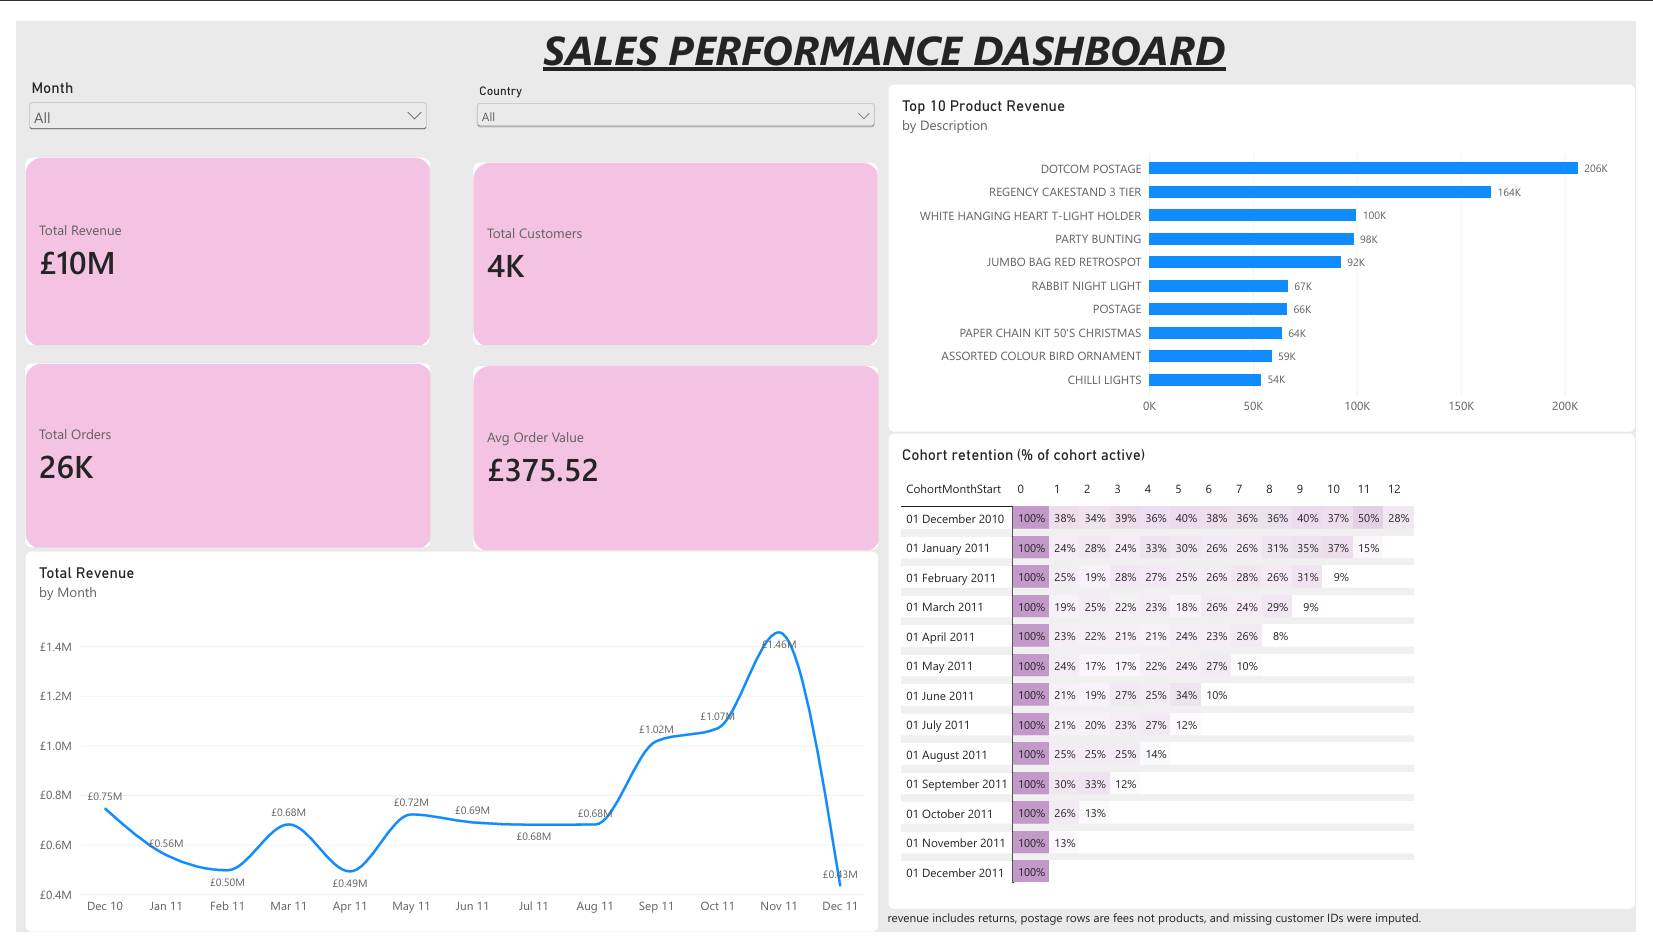

The dashboard page shown, as its layout file describes it:
{"tool":"powerbi","page":{"name":"Page 1","canvas":[1920,1080],"ordinal":0},"visuals":[{"type":"slicer","fields":{"Values":["Date.Month"]},"box":[10.3,67.9,481.6,279.9],"z":0},{"type":"slicer","fields":{"Values":["sales.Country"]},"box":[541.3,74.1,481.6,440.5],"z":1000},{"type":"cardVisual","fields":{"Data":["sales.Total Revenue"]},"box":[10.3,160.5,481.6,224.4],"z":2000},{"type":"cardVisual","fields":{"Data":["sales.Total Orders"]},"box":[10.3,405.5,482,220],"z":3000},{"type":"cardVisual","fields":{"Data":["sales.Total Customers"]},"box":[541.3,166.7,481.6,218.2],"z":4000},{"type":"cardVisual","fields":{"Data":["sales.Avg Order Value"]},"box":[541.3,407.5,482,220],"z":5000},{"type":"lineChart","fields":{"Category":["Date.Month"],"Y":["sales.Total Revenue"]},"box":[10.3,627.8,1012.7,452.8],"z":6000},{"type":"clusteredBarChart","fields":{"Category":["sales.Description"],"Y":["sales.Top 10 Product Revenue"]},"box":[1033.3,74.1,887.1,413.7],"z":7000},{"type":"pivotTable","title":"Cohort retention (% of cohort active)","fields":{"Columns":["sales.CohortIndex"],"Rows":["sales.CohortMonthStart"],"Values":["sales.Retention %"]},"box":[1033.3,487.8,887.1,566],"z":8000},{"type":"textbox","box":[580.4,0,897.4,67.9],"z":9000},{"type":"textbox","box":[1029.2,1053.9,891.3,26.8],"z":10000}]}

Visuals, with their boxes in screenshot pixels (x1, y1, x2, y2), scaled from the page's 1920x1080 canvas onto the 1653x952 screenshot:
slicer - Date.Month: rect(9, 60, 423, 307)
slicer - sales.Country: rect(466, 65, 881, 454)
cardVisual - sales.Total Revenue: rect(9, 141, 423, 339)
cardVisual - sales.Total Orders: rect(9, 357, 424, 551)
cardVisual - sales.Total Customers: rect(466, 147, 881, 339)
cardVisual - sales.Avg Order Value: rect(466, 359, 881, 553)
lineChart - Date.Month x sales.Total Revenue: rect(9, 553, 881, 951)
clusteredBarChart - sales.Description x sales.Top 10 Product Revenue: rect(890, 65, 1652, 430)
"Cohort retention (% of cohort active)" pivotTable: rect(890, 430, 1652, 929)
textbox: rect(500, 0, 1272, 60)
textbox: rect(886, 929, 1652, 951)
